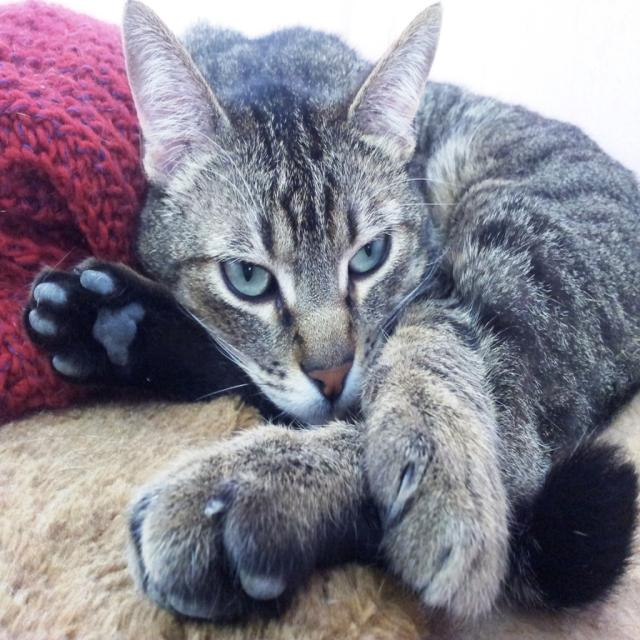Cat: (19, 0, 638, 633)
